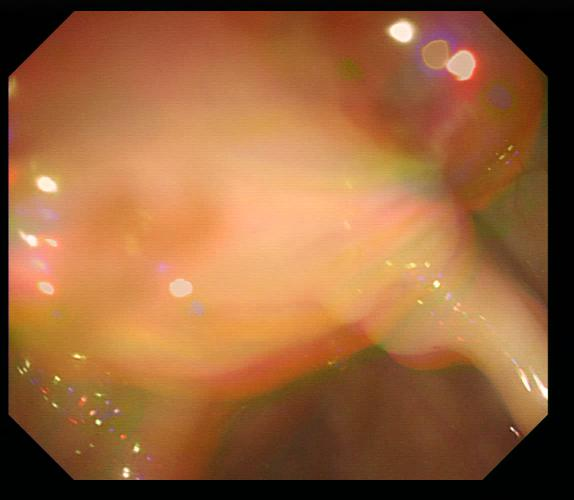polyp: (360, 274, 443, 357), (317, 277, 381, 329)
